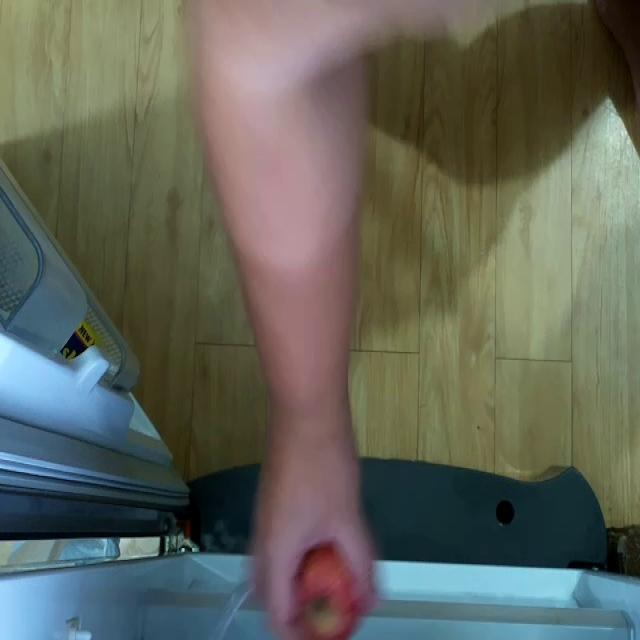apple: (282, 545, 367, 640)
